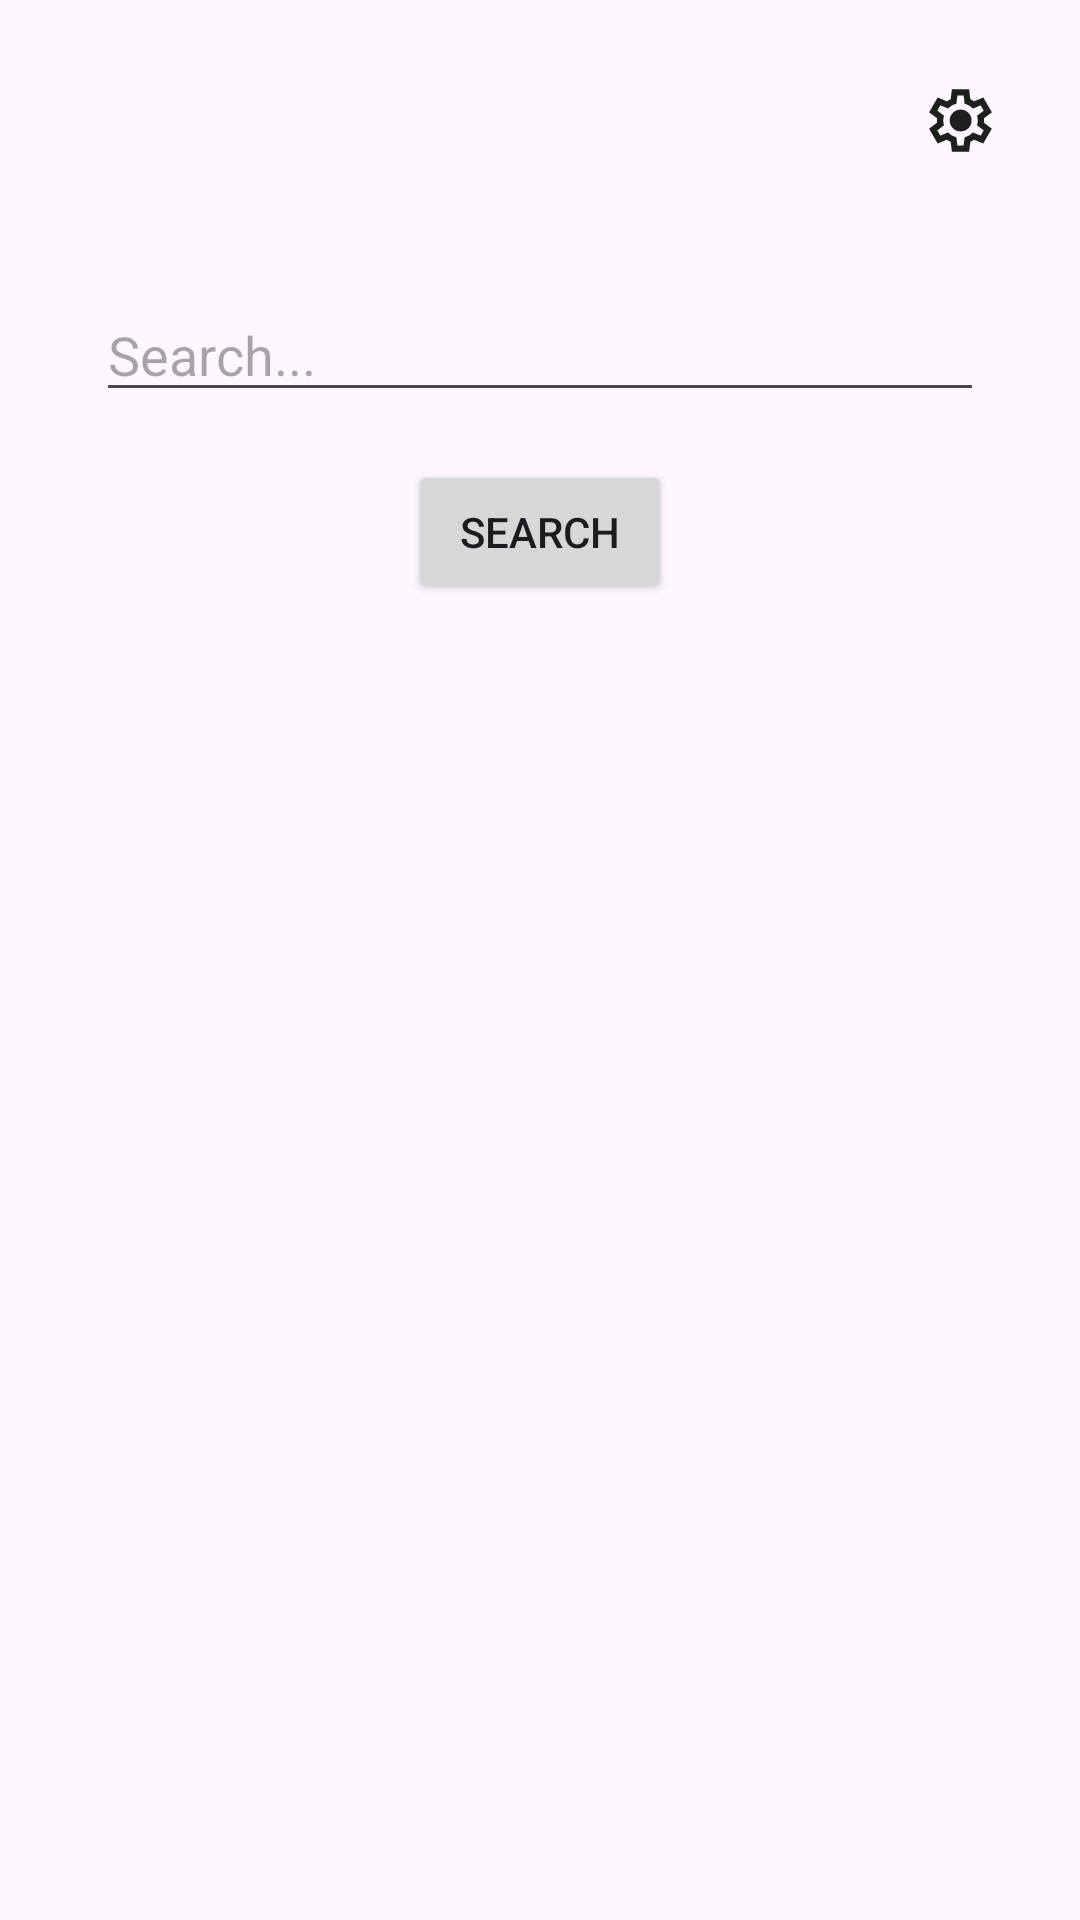

Point at icon controls on the screen. Image size 1080w x 1920h, points as [x,y].
Settings: [960,120]
